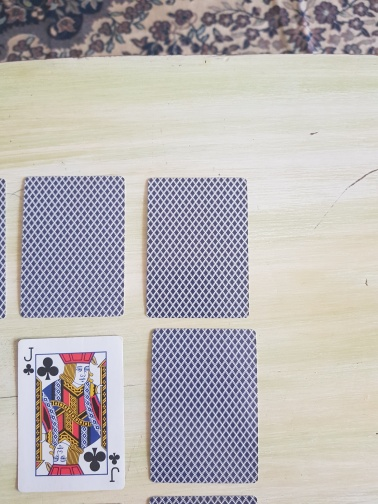jack: (16, 335, 126, 494)
